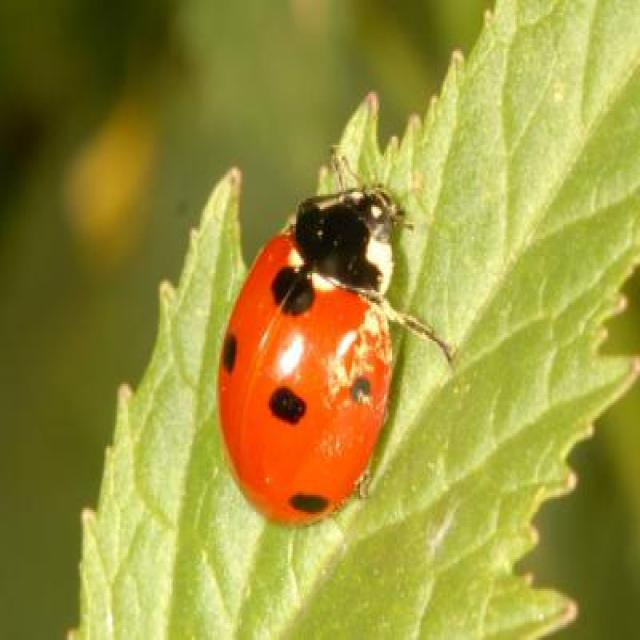antennae: (340, 152, 367, 190)
body: (220, 188, 402, 529)
insect: (220, 146, 454, 529)
legs: (374, 277, 469, 375)
mouthpart: (371, 173, 403, 232)
wings: (224, 230, 394, 527)
